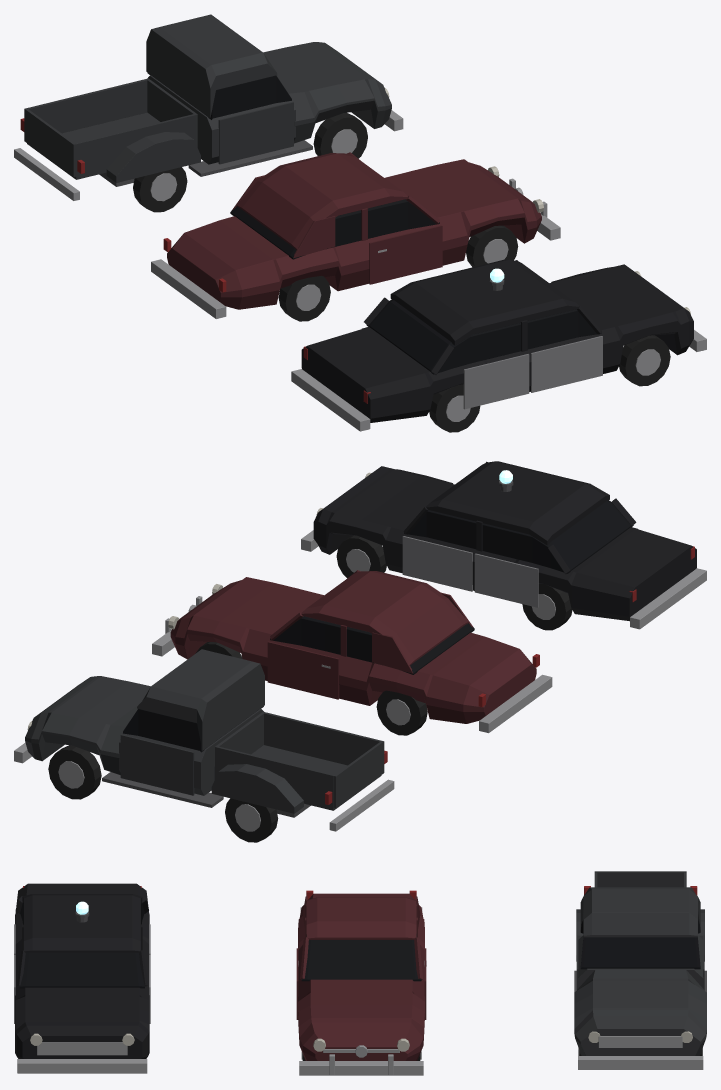
Rendered from vehicles.glb.
3 renders of one model, top to bottom at view 1: azimuth 30°, elevation 25°; view 2: azimuth 150°, elevation 25°; view 3: azimuth 270°, elevation 25°, orthographic. The views are drawn at different scales.
Visible parts, largest first — view 1: police_car_body, ford49_body, pickup_body, pickup_door_right, ford49_door_right, police_car_door_front_right, police_car_door_rear_right, police_car_wheel_front_right, pickup_tailgate, pickup_wheel_front_right, pickup_wheel_rear_right, ford49_wheel_rear_right (+2 smaller); view 2: police_car_body, ford49_body, pickup_body, pickup_door_left, ford49_door_left, police_car_door_front_left, police_car_door_rear_left, pickup_wheel_front_left, pickup_tailgate, pickup_wheel_rear_left, ford49_wheel_rear_left, police_car_wheel_front_left (+1 smaller); view 3: police_car_body, pickup_body, ford49_body, pickup_tailgate.
Part boxes in pixels (x1,y1,x2,y2): police_car_body: (291, 259, 706, 431); ford49_body: (151, 152, 560, 318); pickup_body: (14, 14, 403, 200); pickup_door_right: (218, 102, 293, 164); ford49_door_right: (369, 225, 442, 284); police_car_door_front_right: (531, 336, 602, 392); police_car_door_rear_right: (463, 354, 529, 409); police_car_wheel_front_right: (619, 335, 670, 386); pickup_tailgate: (24, 108, 76, 177); pickup_wheel_front_right: (313, 112, 367, 158); pickup_wheel_rear_right: (133, 167, 187, 212); ford49_wheel_rear_right: (278, 276, 330, 321); police_car_body: (301, 461, 706, 629); ford49_body: (152, 570, 552, 733); pickup_body: (14, 649, 394, 831); pickup_door_left: (120, 734, 194, 795); ford49_door_left: (267, 641, 339, 699); police_car_door_front_left: (402, 536, 472, 591); police_car_door_rear_left: (474, 553, 538, 607); pickup_wheel_front_left: (48, 745, 101, 799); pickup_tailgate: (333, 741, 384, 807); pickup_wheel_rear_left: (225, 798, 278, 842); ford49_wheel_rear_left: (376, 690, 427, 735); police_car_wheel_front_left: (336, 535, 386, 578); police_car_body: (15, 883, 149, 1073); pickup_body: (574, 872, 706, 1069); ford49_body: (298, 890, 424, 1075); pickup_tailgate: (594, 871, 686, 887).
Size of the model in its own units: 5.47 by 1.9 by 9.93.
